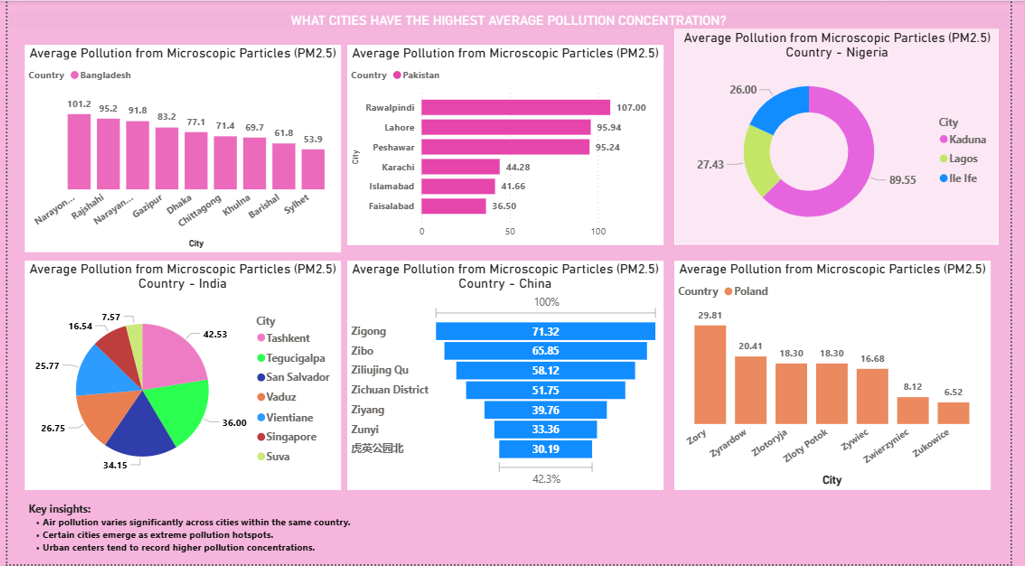

The dashboard page shown, as its layout file describes it:
{"tool":"powerbi","page":{"name":"Page 2","canvas":[1280,720],"ordinal":1},"visuals":[{"type":"columnChart","title":"Average Pollution from Microscopic Particles (PM2.5)","fields":{"Category":["Table.City.1"],"Y":["Avg(Table.PM2.5 Concentration (µg/m³))"],"Series":["Table.Country"]},"box":[21.8,56.5,403.5,264.7],"z":0},{"type":"funnel","title":"Average Pollution from Microscopic Particles (PM2.5) Country - China","fields":{"Category":["Table.City.1","Table.Country"],"Y":["Avg(Table.PM2.5 Concentration (µg/m³))"]},"box":[434.4,332.9,403.5,293],"z":1000},{"type":"barChart","title":"Average Pollution from Microscopic Particles (PM2.5)","fields":{"Category":["Table.City.1"],"Y":["Avg(Table.PM2.5 Concentration (µg/m³))"],"Series":["Table.Country"]},"box":[434.4,56.5,403.5,255.7],"z":2000},{"type":"donutChart","title":"Average Pollution from Microscopic Particles (PM2.5) Country  - Nigeria","fields":{"Category":["Table.City.1"],"Y":["Avg(Table.PM2.5 Concentration (µg/m³))"]},"box":[852,36,413.8,276.3],"z":3000},{"type":"pieChart","title":"Average Pollution from Microscopic Particles (PM2.5) Country - India","fields":{"Category":["Table.City.1"],"Y":["Avg(Table.PM2.5 Concentration (µg/m³))"]},"box":[21.8,332.9,403.5,293],"z":4000},{"type":"columnChart","title":"Average Pollution from Microscopic Particles (PM2.5)","fields":{"Category":["Table.City.1"],"Y":["Avg(Table.PM2.5 Concentration (µg/m³))"],"Series":["Table.Country"]},"box":[852,332.9,403.5,293],"z":5000},{"type":"cardVisual","title":"WHAT CITIES HAVE THE HIGHEST AVERAGE POLLUTION CONCENTRATION?","fields":{"Rows":["Table.Country"]},"box":[0,15.4,1280,20.6],"z":6000},{"type":"textbox","box":[21.8,636.1,1233.7,83.5],"z":7000}]}

Visuals, with their boxes in screenshot pixels (x1, y1, x2, y2), scaled from the page's 1280x720 canvas onto the 1025x566 screenshot:
"Average Pollution from Microscopic Particles (PM2.5)" columnChart: [17,44,341,252]
"Average Pollution from Microscopic Particles (PM2.5) Country - China" funnel: [348,262,671,492]
"Average Pollution from Microscopic Particles (PM2.5)" barChart: [348,44,671,245]
"Average Pollution from Microscopic Particles (PM2.5) Country  - Nigeria" donutChart: [682,28,1014,246]
"Average Pollution from Microscopic Particles (PM2.5) Country - India" pieChart: [17,262,341,492]
"Average Pollution from Microscopic Particles (PM2.5)" columnChart: [682,262,1005,492]
"WHAT CITIES HAVE THE HIGHEST AVERAGE POLLUTION CONCENTRATION?" cardVisual: [0,12,1024,28]
textbox: [17,500,1005,565]
